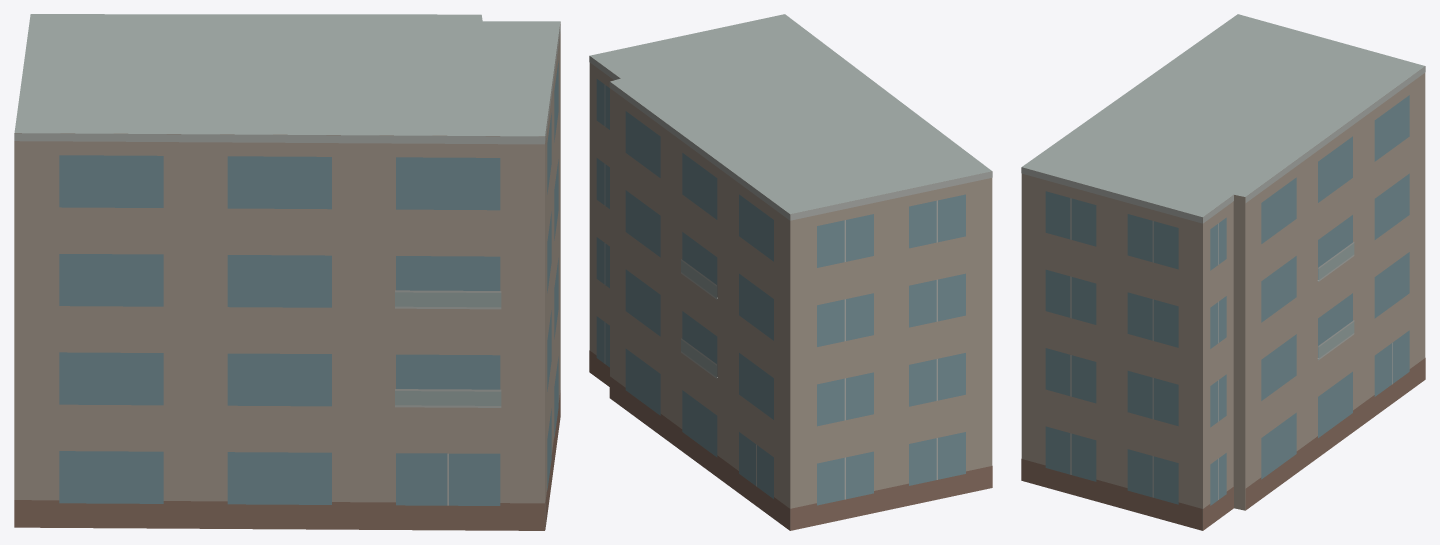
Rendered from survey-upis-32776670.glb.
3 renders of one model, left to right at view 1: azimuth 30°, elevation 25°; view 2: azimuth 150°, elevation 25°; view 3: azimuth 270°, elevation 25°, orthographic. The views are drawn at different scales.
Visible parts, largest first — view 1: survey-upis-32776670.tmp; view 2: survey-upis-32776670.tmp; view 3: survey-upis-32776670.tmp.
Part boxes in pixels (x1,y1,x2,y2): survey-upis-32776670.tmp: (14,14,560,530); survey-upis-32776670.tmp: (589,14,992,530); survey-upis-32776670.tmp: (1021,14,1425,530).
Bounding box in the file's own units: 16.62 × 11.95 × 13.96.
